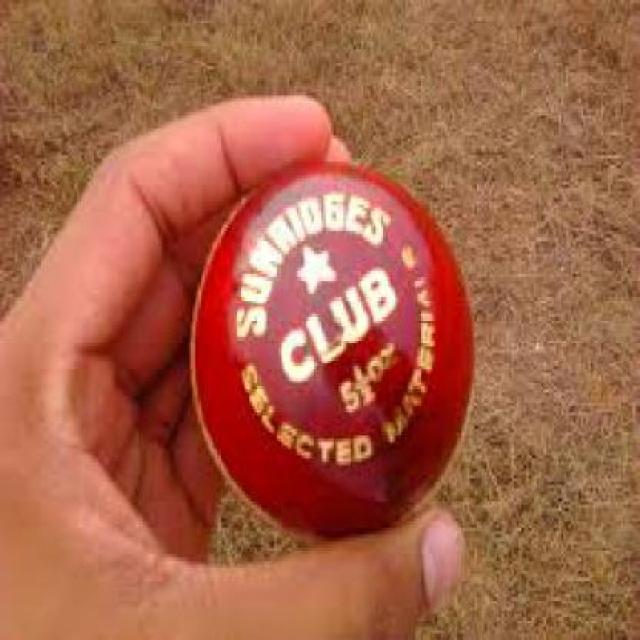ball: (159, 153, 518, 542)
